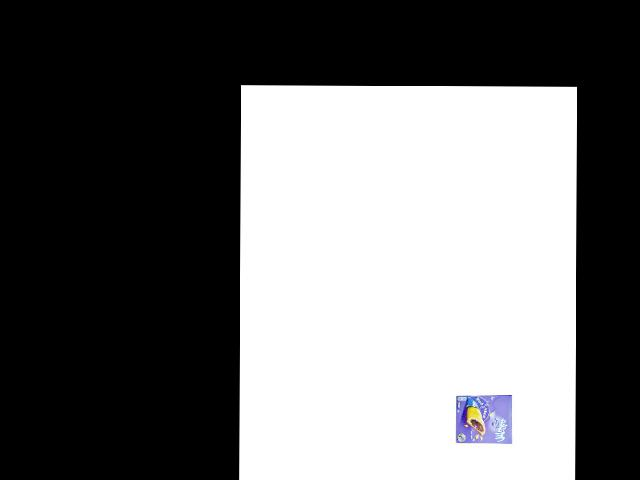chocolate: (451, 392, 515, 446)
